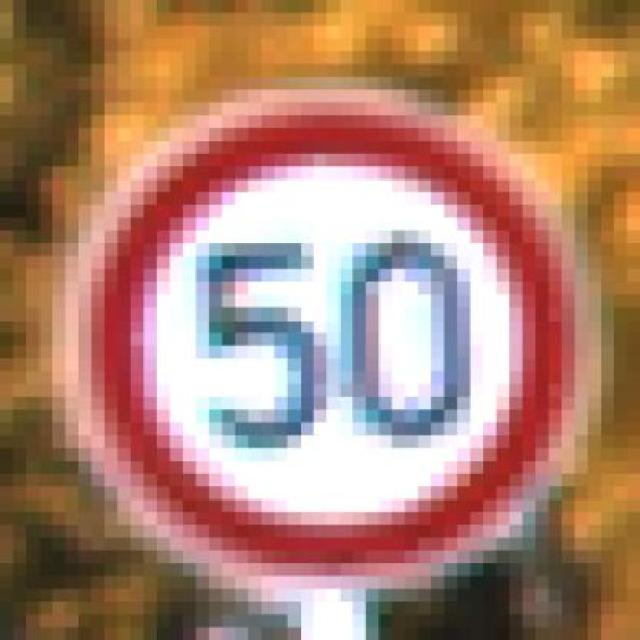Speed limit 50: (72, 89, 583, 584)
